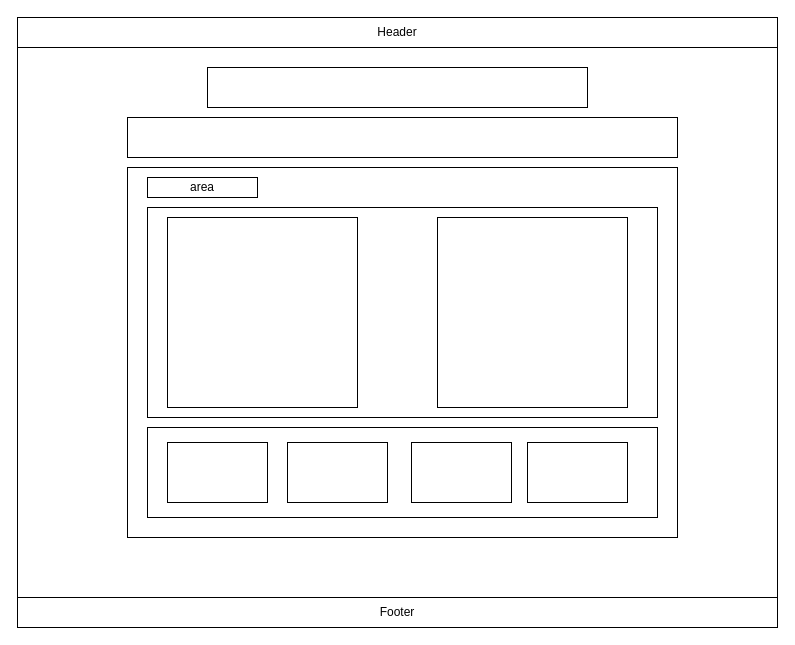
This 795x645 diagram has some shape labels left out. The shapes that lost their labels are listed below. From the top down, each one's centre as x and y in pixels, then its label:
At (397,87): "Searcharea".
At (402,137): "Tabs".
